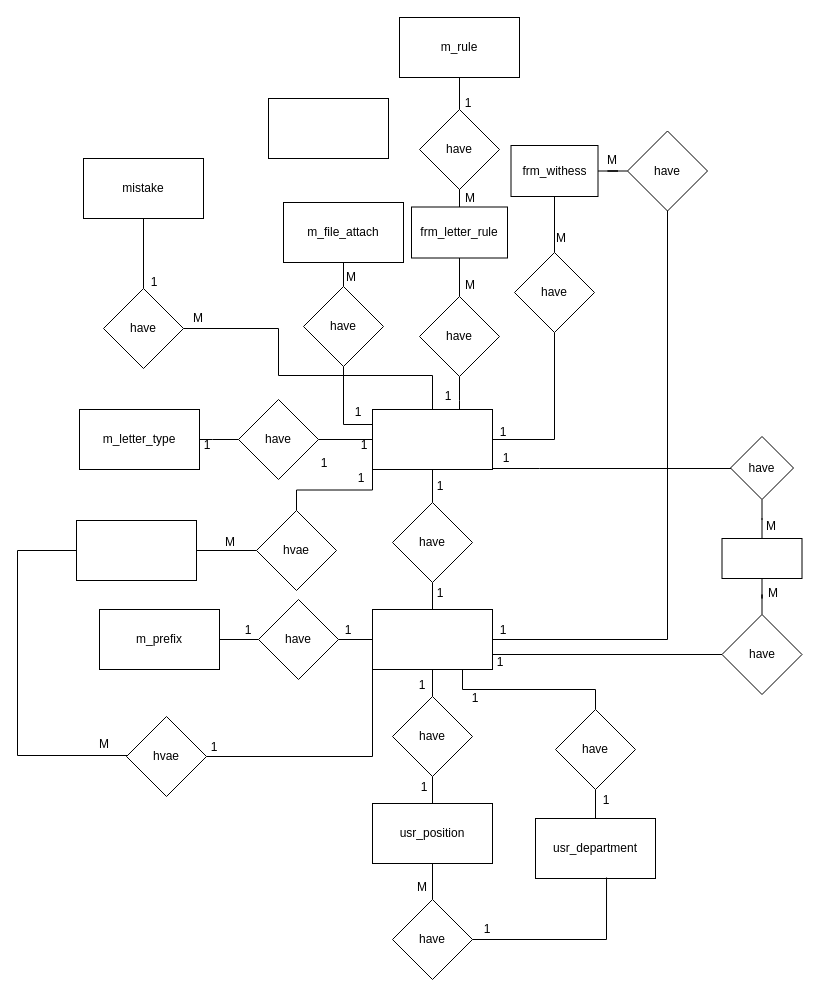
Image size: 820x997. Some labels were removed from this diagram. Here are the shapes that lost their labels. From the top down, the centre of each, then its label:
At [328,128]: "m_menu".
At [432,439]: "m_letter".
At [136,550]: "letter_process".
At [761,558]: "frm_target".
At [432,639]: "m_user".
